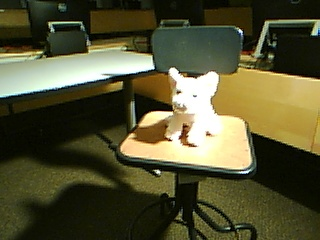piggy: (162, 66, 222, 148)
